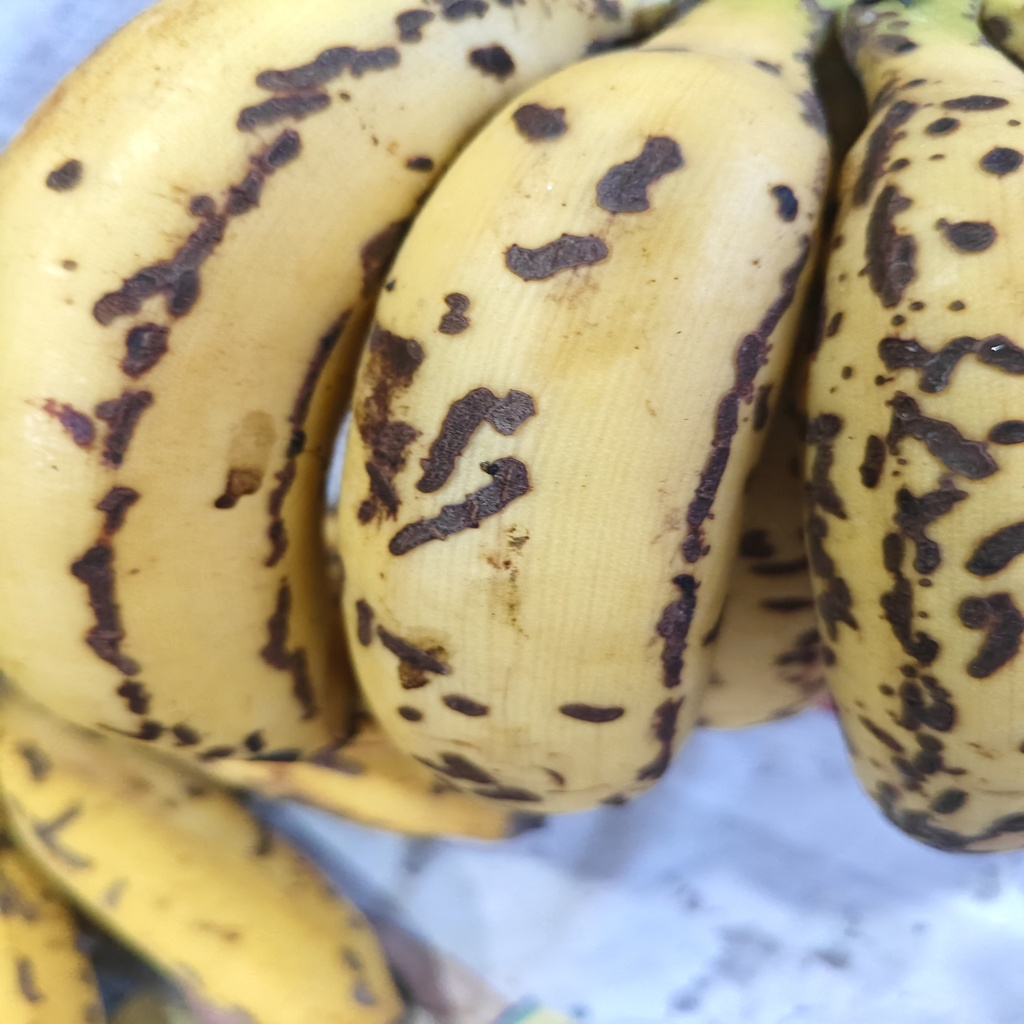unhealthy: (1, 1, 587, 767), (327, 65, 837, 811), (801, 92, 1024, 861)
